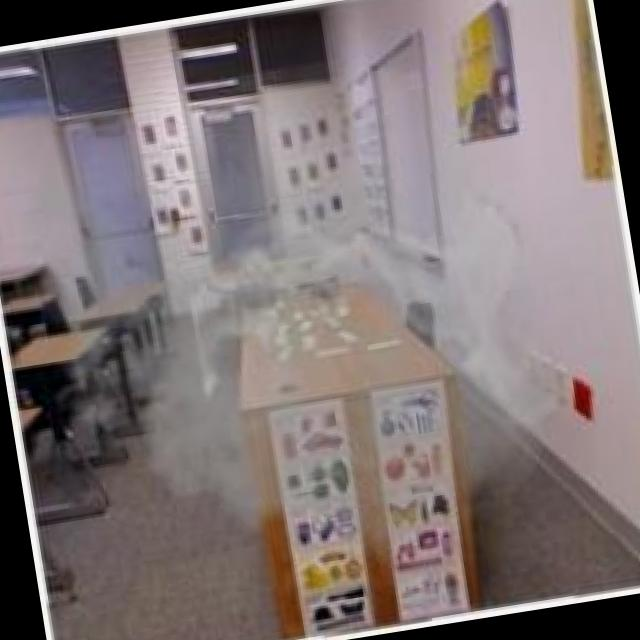smoke: (132, 200, 530, 472)
